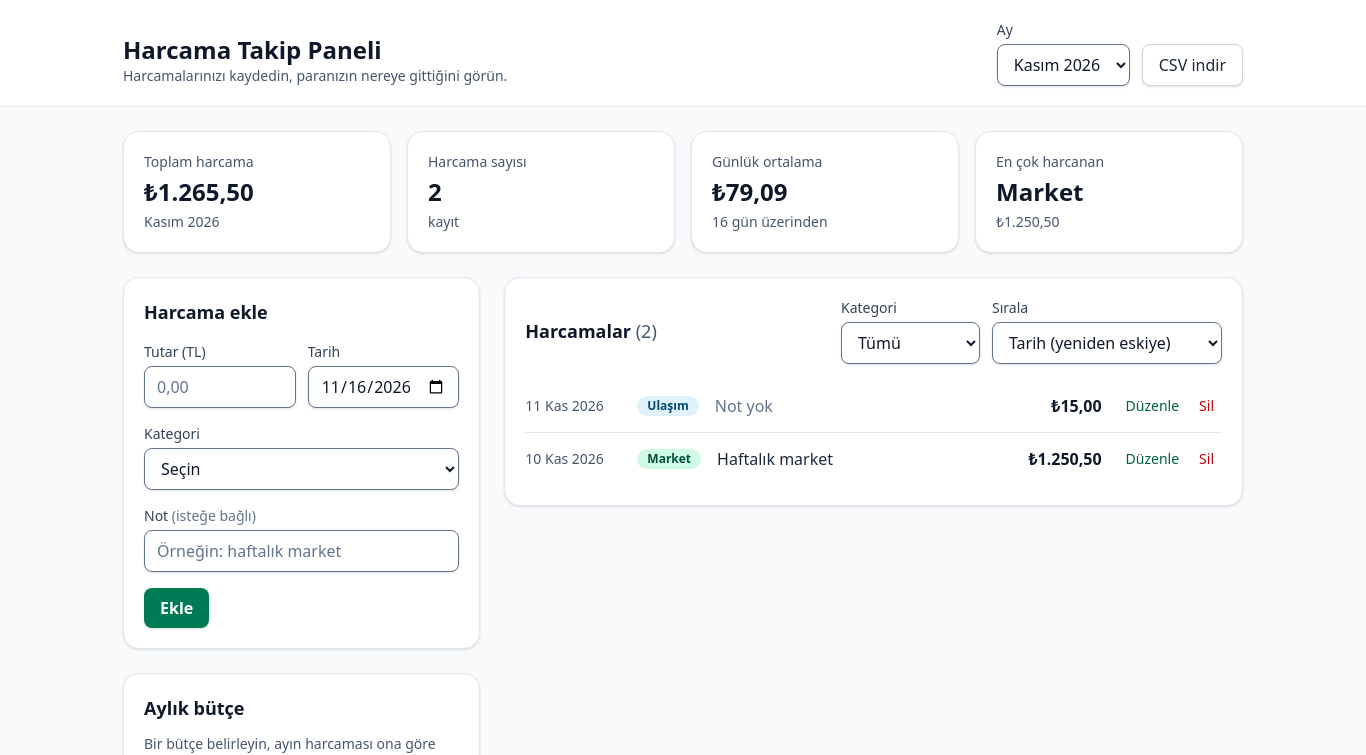
Test: editing and deleting › deletes an expense and brings it back with undo
Click the button named "10 Kasım 2026 tarihli ₺1.250,50 tutarındaki Market harcaması: sil". click: (1207, 459)
box: [1191,445,1222,473]
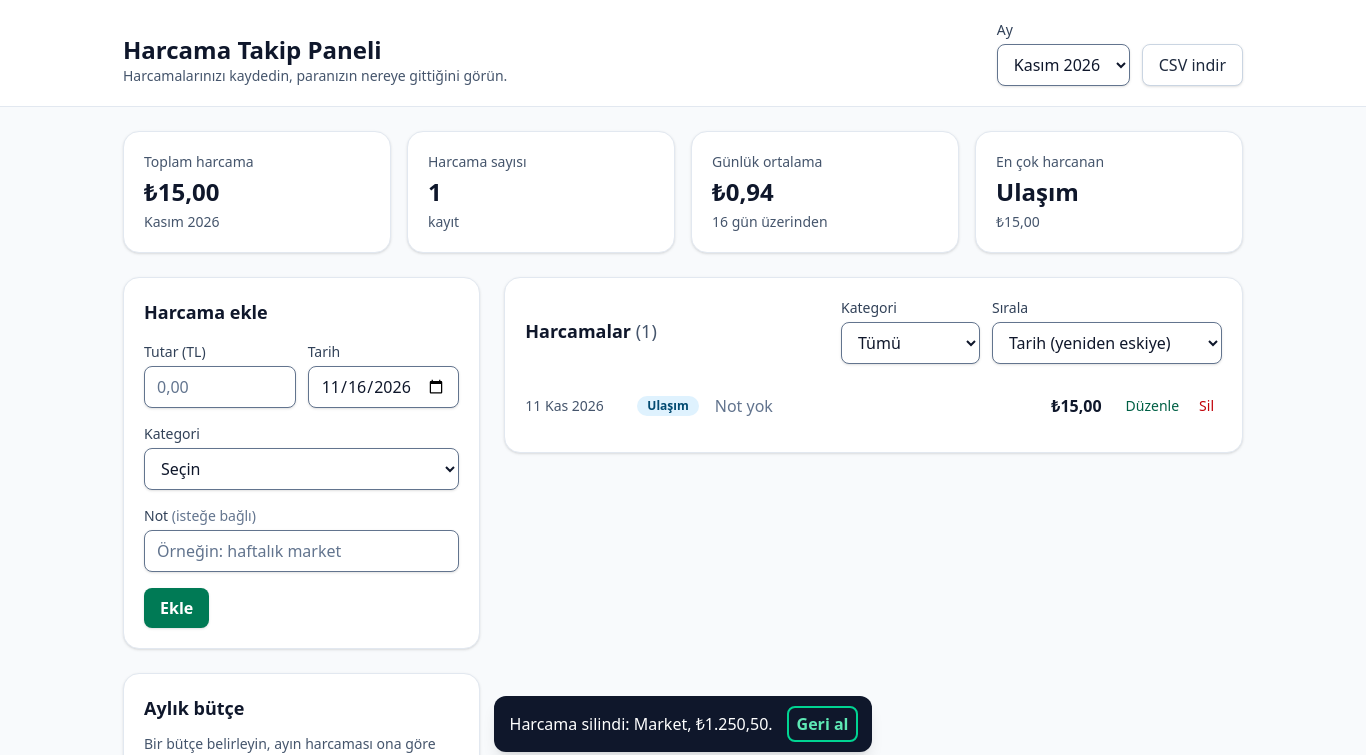
Expected: the text "Harcama silindi: Market, ₺1.250,50." is shown, [510,712,772,736]
Click the button "Geri al". click: (823, 724)
box: [789,708,856,740]
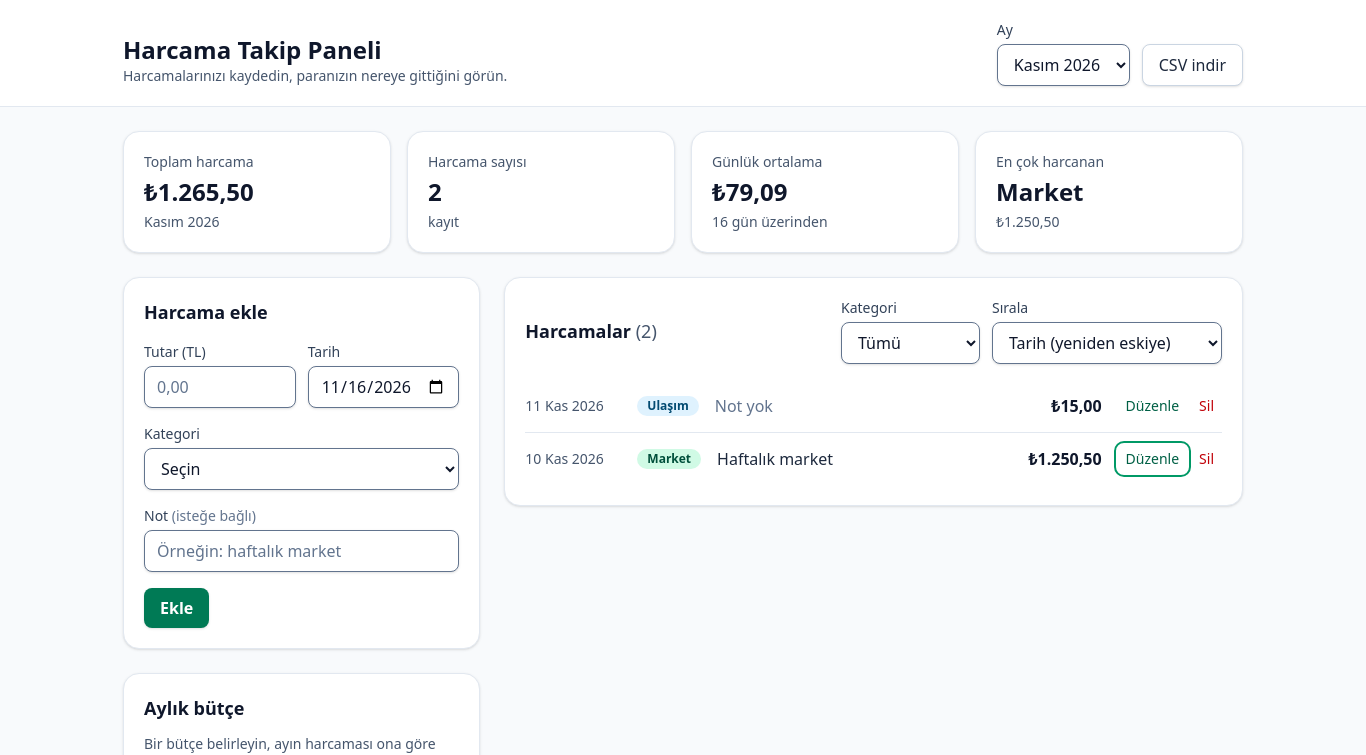
Expected: the text "Harcama silindi" is gone
